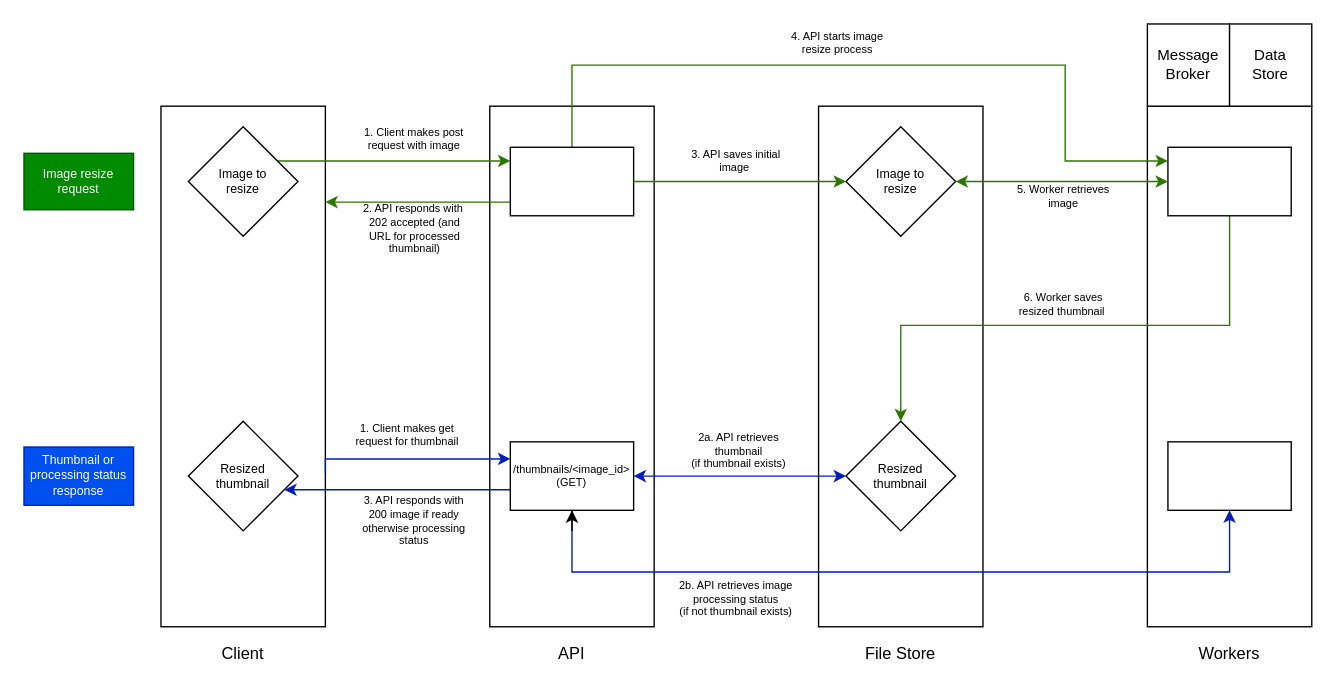
This 1336x692 diagram has some shape labels left out. Here are the shapes that lost their labels. From the top down, the centre of each, then its label:
the point at 571,181: /thumbnails (POST)
the point at 1229,181: Resize function
the point at 1229,475: Resize status
